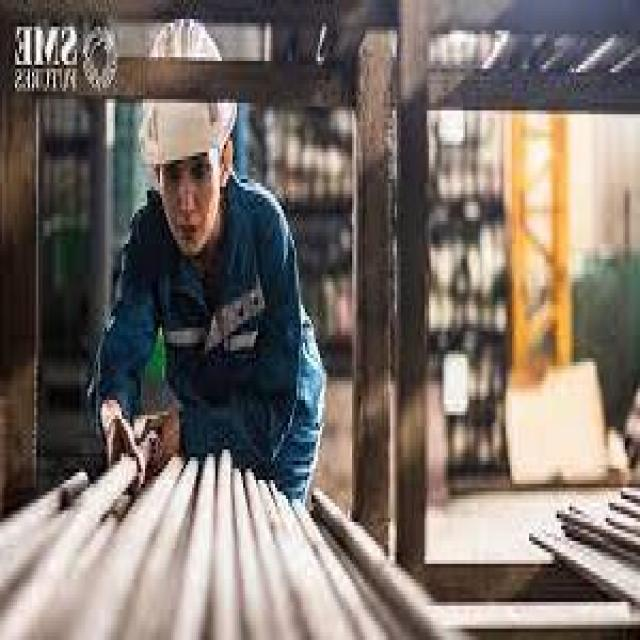Safety-Helmet: (124, 11, 247, 179)
